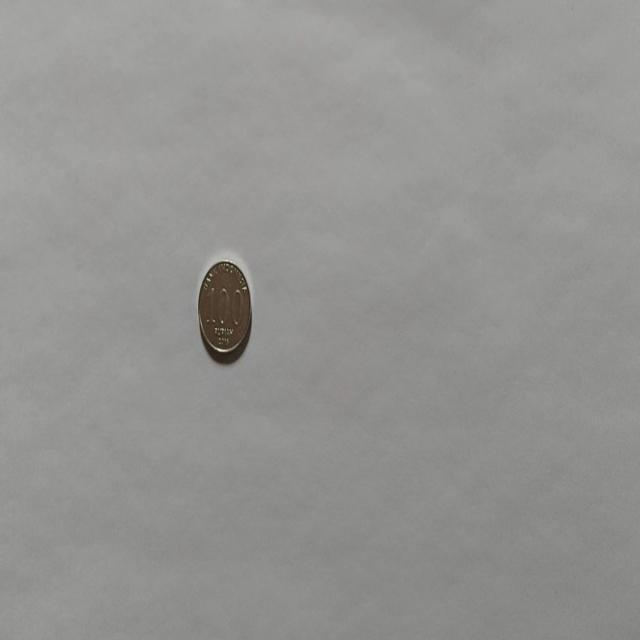seratus rupiah: (196, 258, 252, 360)
